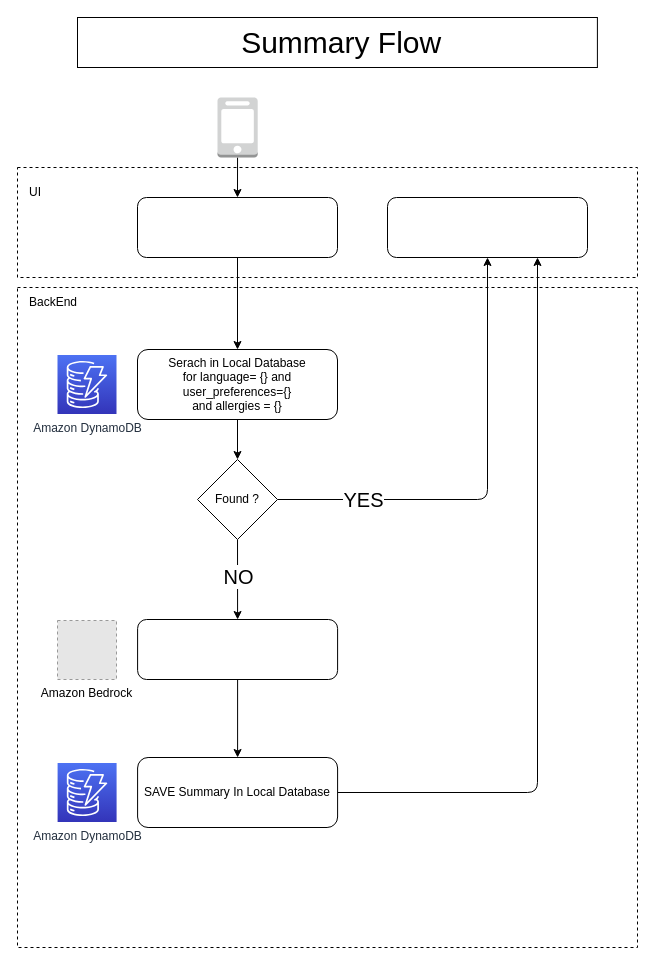
This 655x965 diagram has some shape labels left out. Grey dashed boxes stand in for pictures. The shapes that lost their labels are listed below. From the top down, each one's centre as x and y in pixels, then its label:
At (237,227): "Fetch Summary For ProductCode".
At (487,227): "Display Personalized Summary".
At (237,649): "Call Bedrock/Claude Instant To generate description".
